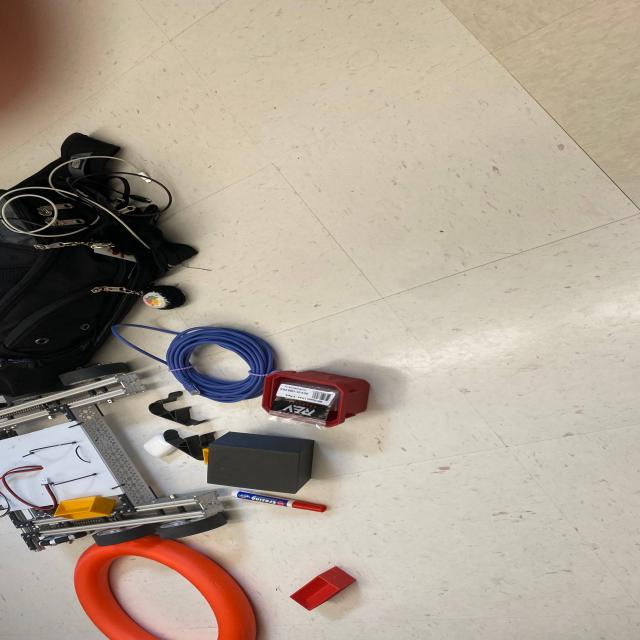red-specimen: (290, 567, 356, 610)
yellow-specimen: (55, 496, 116, 520), (203, 448, 209, 465)
